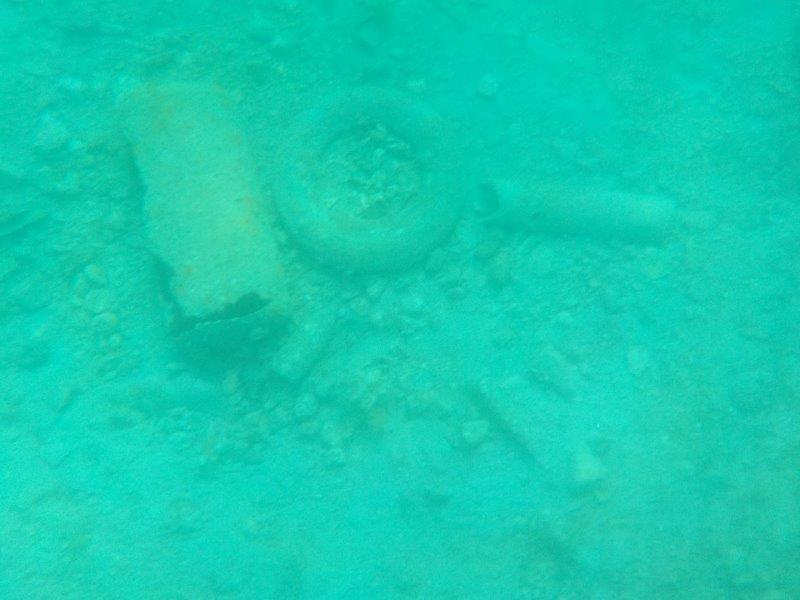bottle: (462, 362, 563, 478), (266, 287, 351, 390)
tire: (263, 77, 472, 280)
